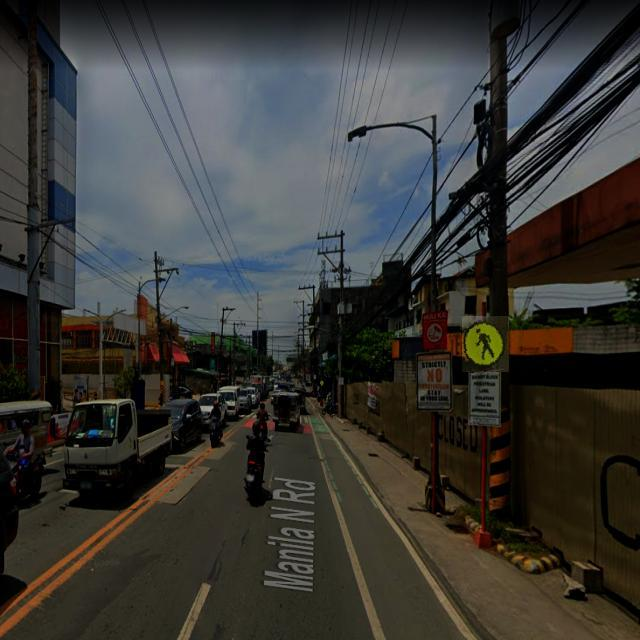pedestrian crossing: (462, 316, 509, 372)
